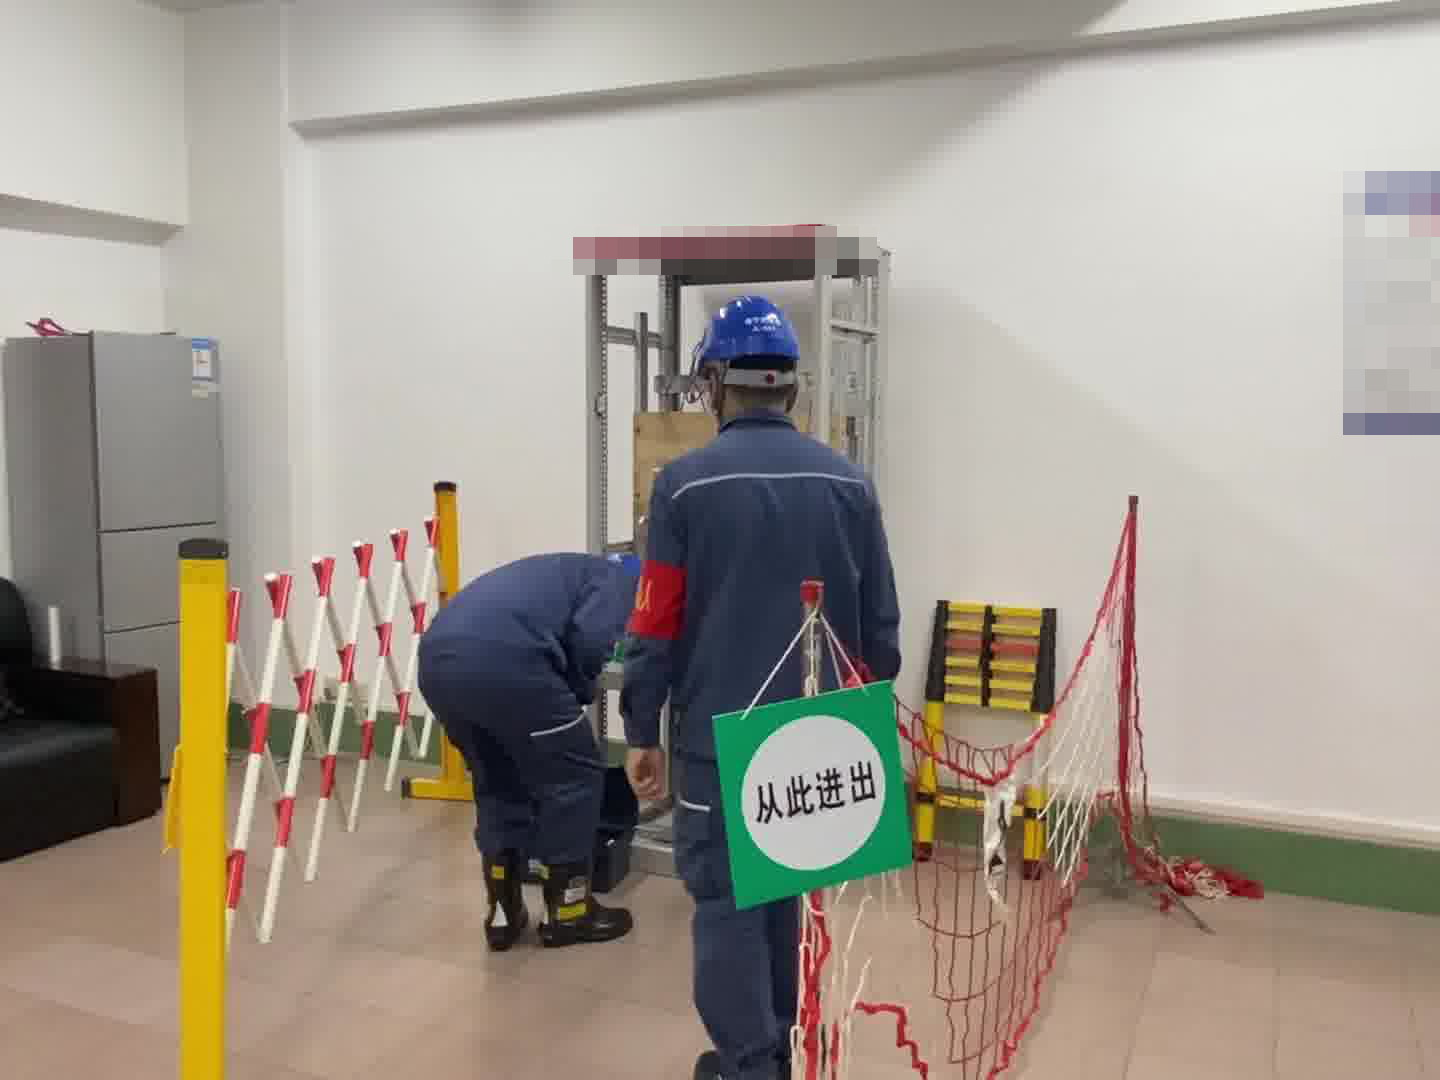badge: (626, 558, 691, 643)
downsuit: (418, 674, 613, 882), (673, 769, 775, 1057)
halt: (691, 292, 808, 428)
hand: (627, 748, 672, 812)
intosign: (710, 675, 914, 908)
person: (592, 287, 914, 1078), (416, 533, 656, 948)
shoe: (530, 851, 635, 949), (477, 851, 530, 951)
upsuit: (616, 414, 910, 714), (417, 551, 628, 682)
